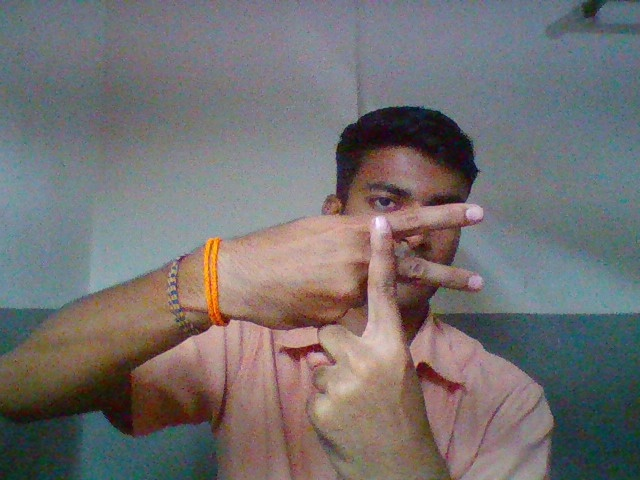K: (239, 193, 539, 428)
